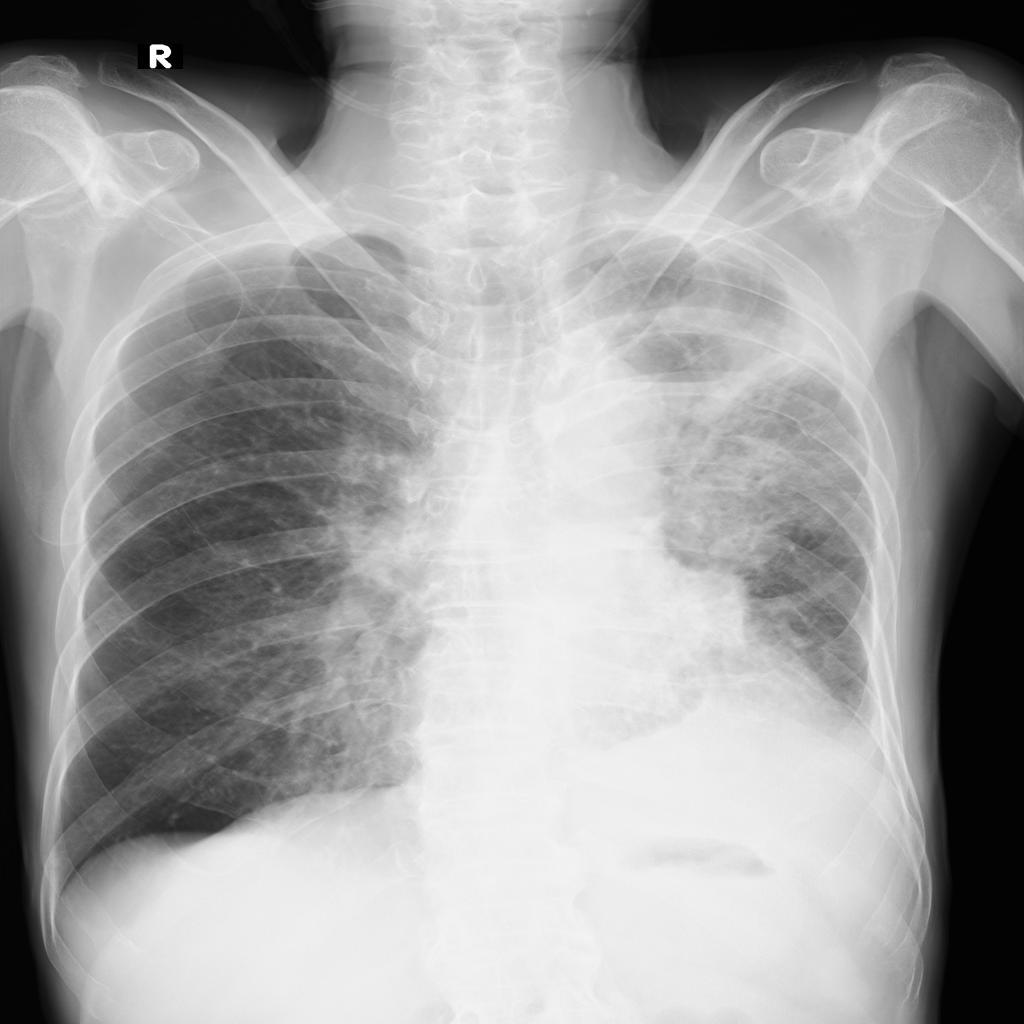Nodule: (680, 561, 754, 636)
